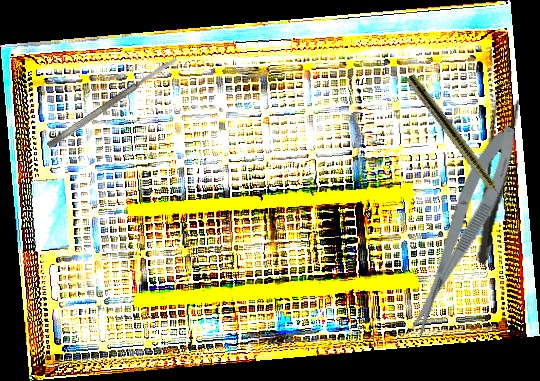Dressing Forceps: (468, 83, 522, 266)
Handpiece: (403, 73, 515, 214)
Micro Scissor: (393, 119, 530, 341)
Spatula Surgical: (45, 55, 180, 150)
